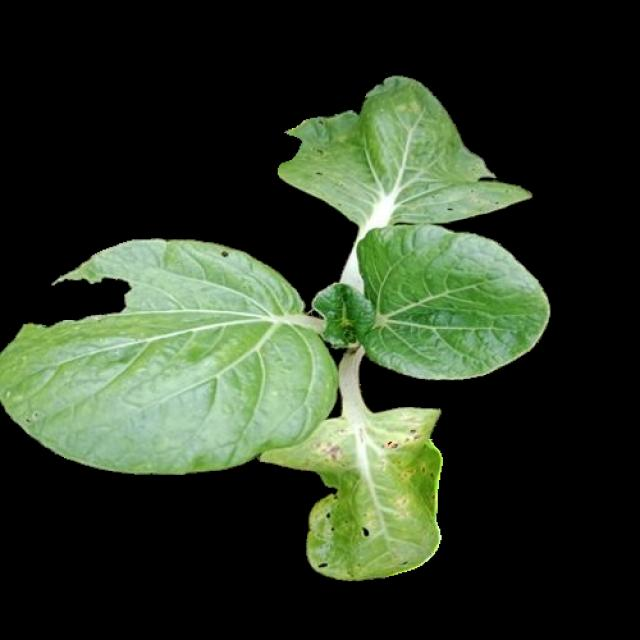not-mature: (1, 78, 549, 582)
unhealthy: (1, 235, 338, 472), (279, 78, 531, 236), (259, 403, 449, 580)
